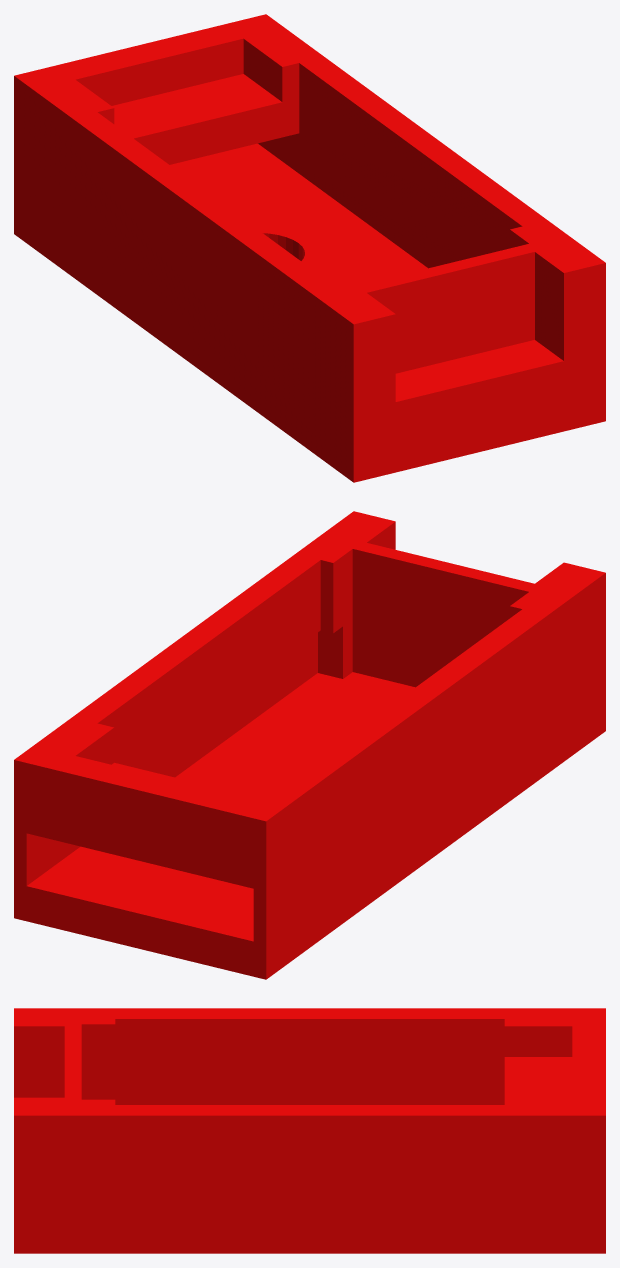
Rendered from insert.glb.
3 views of the same model, one above another, from view 1: azimuth 30°, elevation 25°; view 2: azimuth 150°, elevation 25°; view 3: azimuth 270°, elevation 25° (orthographic). The views are drawn at different scales.
Parts seen in each view (by area): view 1: insert; view 2: insert; view 3: insert.
Part boxes in pixels (x1,y1,x2,y2): insert: (14,14,605,482); insert: (14,511,605,979); insert: (14,1008,605,1253).
Bounding box in the file's own units: 0.15 × 0.09 × 0.35.
